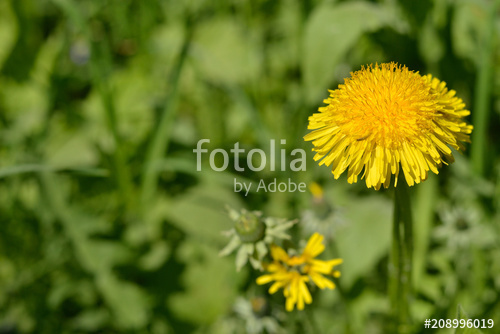dandelion: (303, 77, 460, 192)
